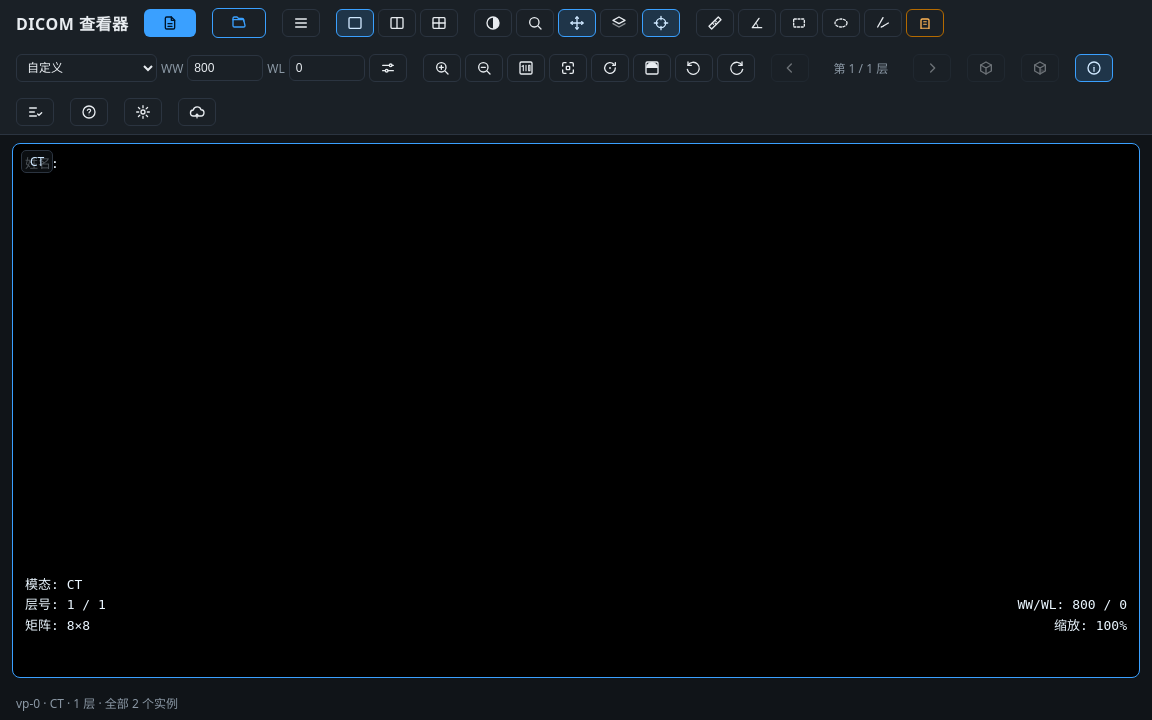
Test: M9 移动端 App 集成 › 响应式布局（FR-14.2） › 窄屏：点击遮罩关闭抽屉
Click the button named "序列列表（抽屉）" at (301, 23), box [282, 9, 320, 37]
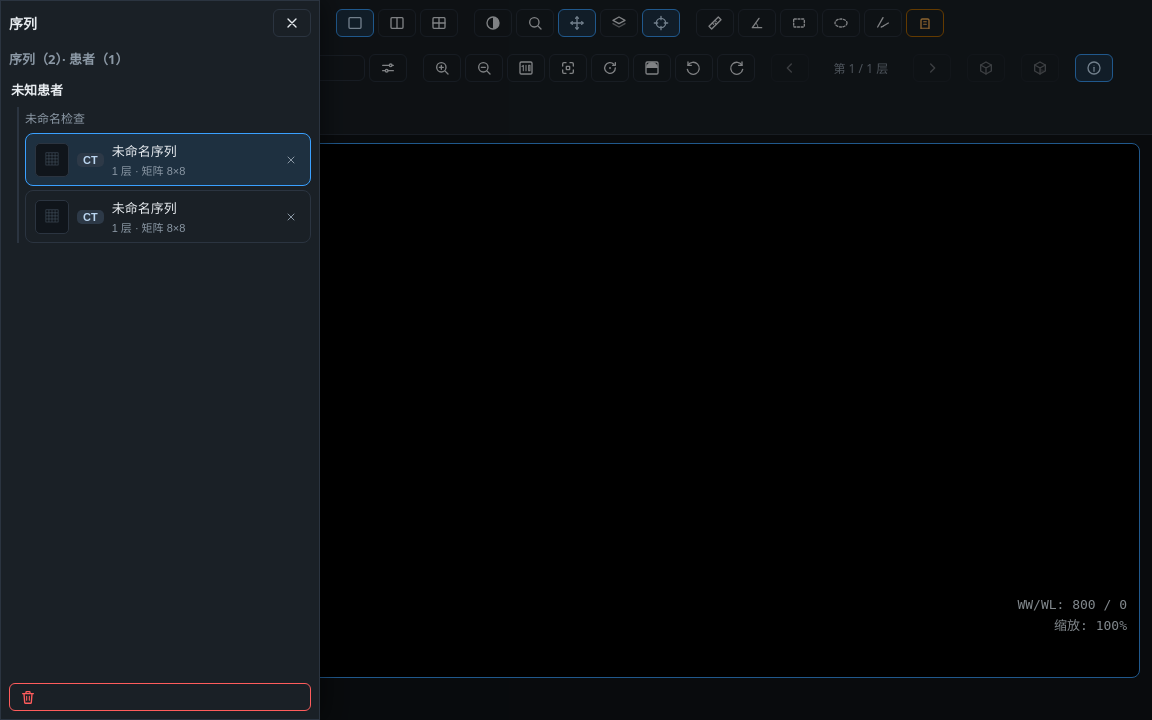
Check: the element with class "series-drawer" is shown, box [0, 0, 320, 719]
Click the element with class "drawer-backdrop" at (576, 360), box [0, 0, 1151, 719]
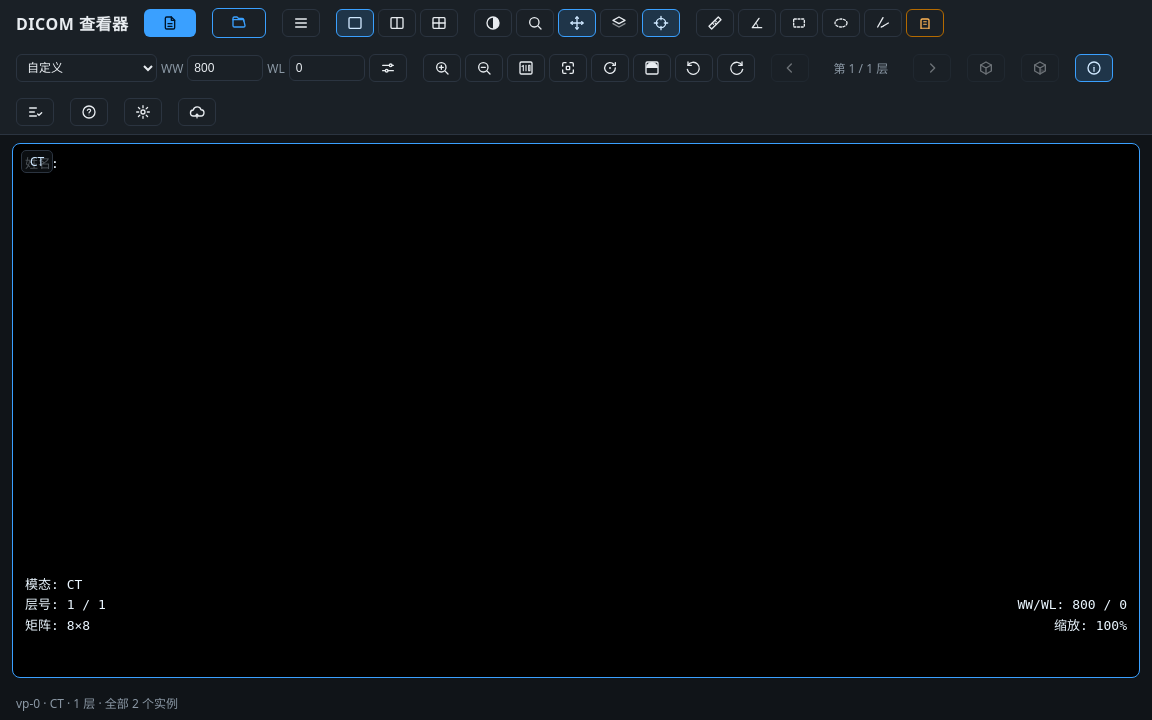
Check: the element with class "series-drawer" is gone
